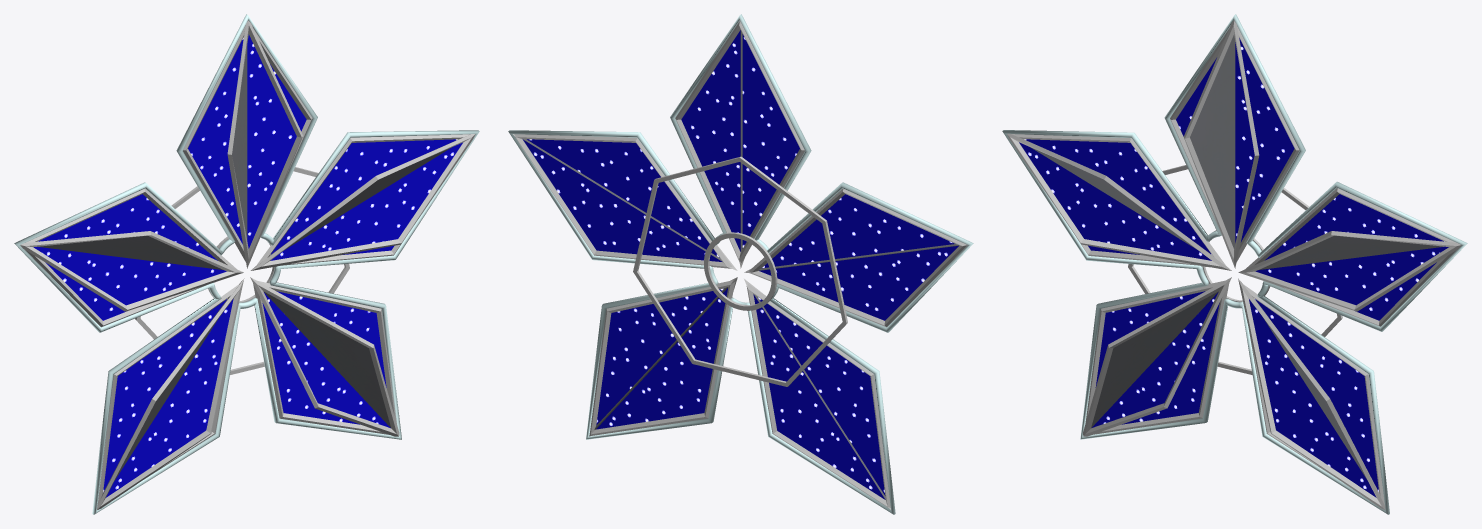
File: Ceiling Ice Flake.fbx
The picture shows the model from 3 angles, left to right: view 1: azimuth 30°, elevation 25°; view 2: azimuth 150°, elevation 25°; view 3: azimuth 330°, elevation 25°; orthographic projection.
Visible parts, largest first — view 1: String.002, String.001, BezierCurve, String, Frame 2.001, Frame 2.002, Tile.001, Frame 1.001, Frame 1.002, Tile.002, Frame 2, Frame 1 (+2 smaller); view 2: String.001, String.002, String, BezierCurve, Frame 1.001, Frame 1.002, Circle.004, Frame 1, Circle.003, Tile.002, Tile.001, Tile; view 3: String.002, String.001, BezierCurve, String, Frame 2.001, Frame 2.002, Tile, Tile.001, Frame 1.001, Frame 1.002, Tile.002, Frame 2 (+2 smaller).
Part boxes in pixels (x1,y1,x2,y2): String.002: [33, 139, 462, 320]; String.001: [103, 291, 390, 497]; BezierCurve: [14, 14, 479, 514]; String: [188, 34, 306, 248]; Frame 2.001: [97, 277, 399, 509]; Frame 2.002: [20, 134, 475, 311]; Tile.001: [114, 291, 390, 480]; Frame 1.001: [97, 280, 396, 504]; Frame 1.002: [25, 134, 469, 327]; Tile.002: [38, 147, 451, 269]; Frame 2: [227, 20, 302, 268]; Frame 1: [183, 25, 312, 261]; String.001: [596, 288, 885, 499]; String.002: [522, 139, 958, 320]; String: [681, 30, 799, 251]; BezierCurve: [508, 14, 973, 514]; Frame 1.001: [589, 280, 890, 507]; Frame 1.002: [514, 134, 966, 327]; Circle.004: [633, 156, 847, 386]; Frame 1: [675, 21, 804, 262]; Circle.003: [704, 232, 777, 310]; Tile.002: [522, 138, 958, 270]; Tile.001: [594, 287, 885, 499]; Tile: [740, 30, 742, 252]; String.002: [1019, 139, 1448, 320]; String.001: [1092, 291, 1379, 497]; BezierCurve: [1002, 14, 1467, 514]; String: [1176, 38, 1294, 242]; Frame 2.001: [1083, 277, 1385, 509]; Frame 2.002: [1007, 133, 1461, 311]; Tile: [1190, 34, 1235, 248]; Tile.001: [1091, 291, 1367, 480]; Frame 1.001: [1085, 280, 1384, 503]; Frame 1.002: [1011, 134, 1455, 326]; Tile.002: [1030, 147, 1443, 269]; Frame 2: [1183, 20, 1259, 268].
Size of the model in its own units: 168 by 160 by 13.03.
